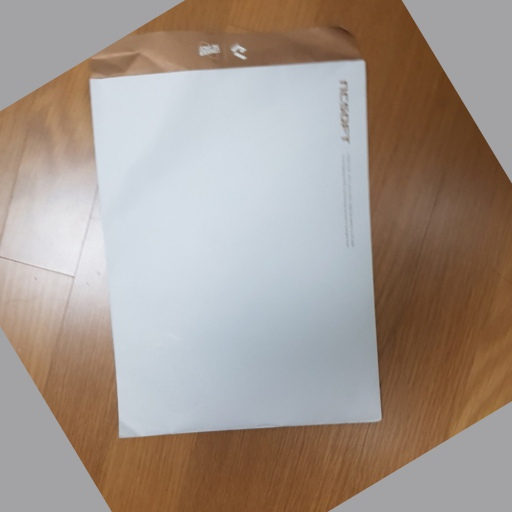Paper_2: (86, 25, 390, 450)
